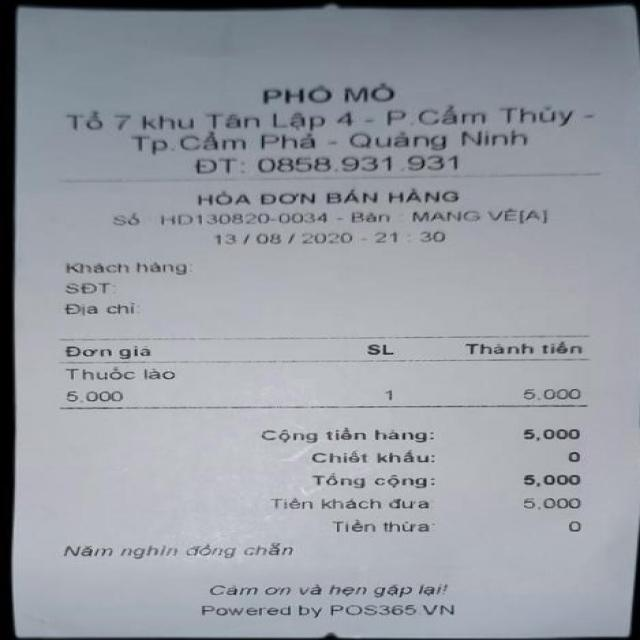Date: (207, 229, 359, 253)
Store_Name: (200, 72, 439, 111)
Total_Amount: (83, 468, 597, 496)
